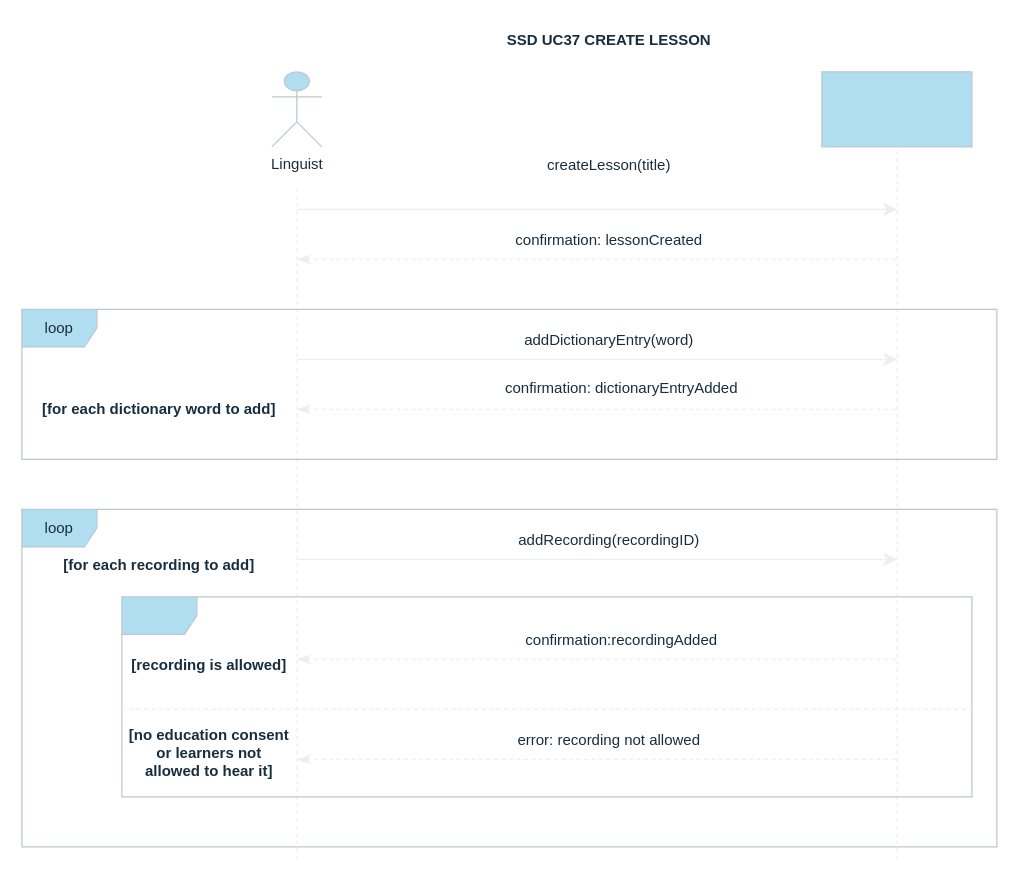
The diagram is 1019 pixels wide and 883 high, and some of its shapes have lost their labels. The shapes that lost their labels are listed below. From the top down, each one's box as (x1, y1, x2, y2) in pixels, then its label:
(821, 71, 972, 147): : System
(121, 596, 972, 797): alt
